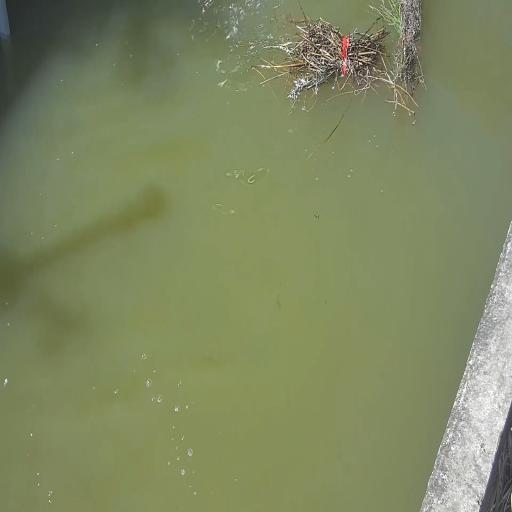twig: (290, 20, 386, 120), (388, 0, 424, 110)
